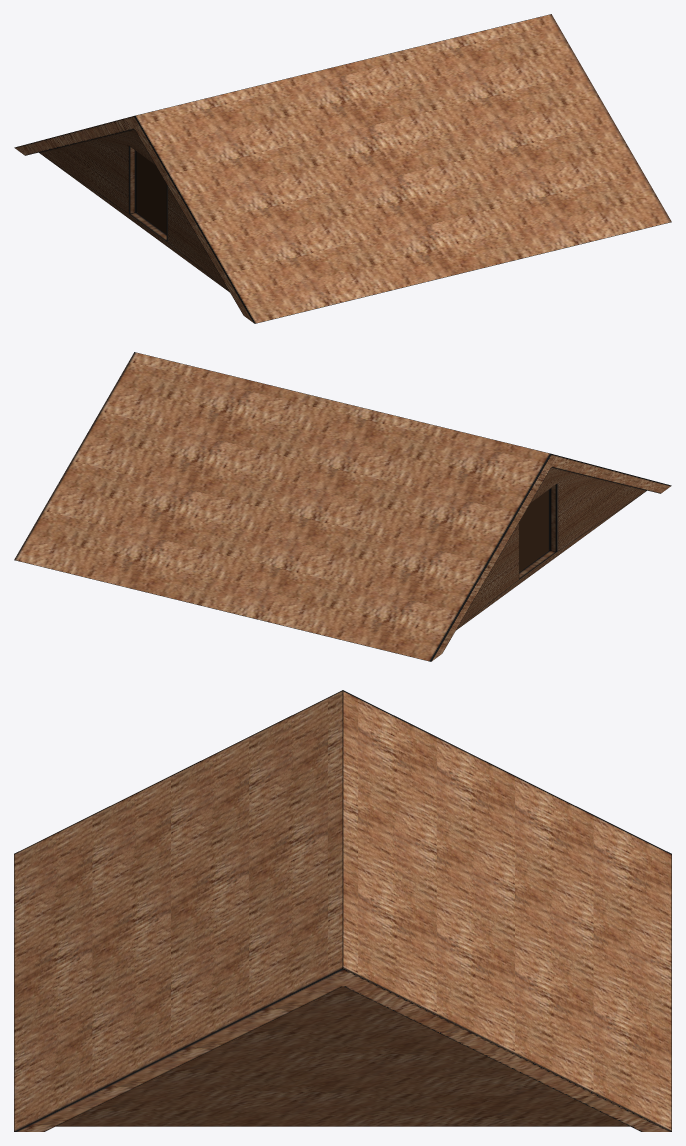
File: Maori_Farmstead.dae
The picture shows the model from 3 angles, top to bottom: view 1: azimuth 30°, elevation 25°; view 2: azimuth 150°, elevation 25°; view 3: azimuth 270°, elevation 25°; orthographic projection. The views are drawn at different scales.
Parts seen in each view (by area): view 1: Cube.001; view 2: Cube.001; view 3: Cube.001.
Boxes of the visible parts, x1,y1,x2,y2 form: Cube.001: (14,14,671,323); Cube.001: (14,352,671,661); Cube.001: (14,690,671,1131).
Bounding box in the file's own units: 12.82 × 12.82 × 3.52.
Materials: 1 (1 with a texture image).
